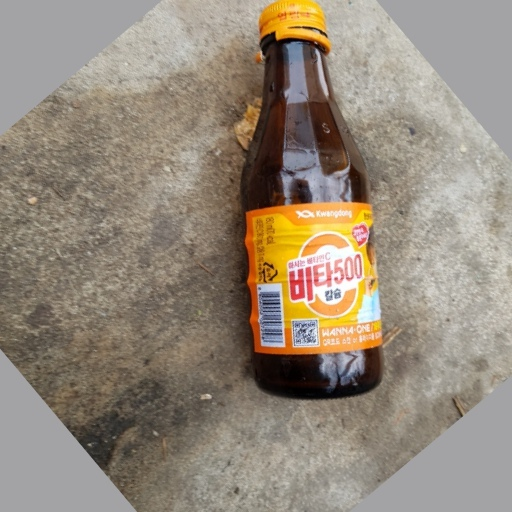Glass_3: (238, 1, 386, 397)
